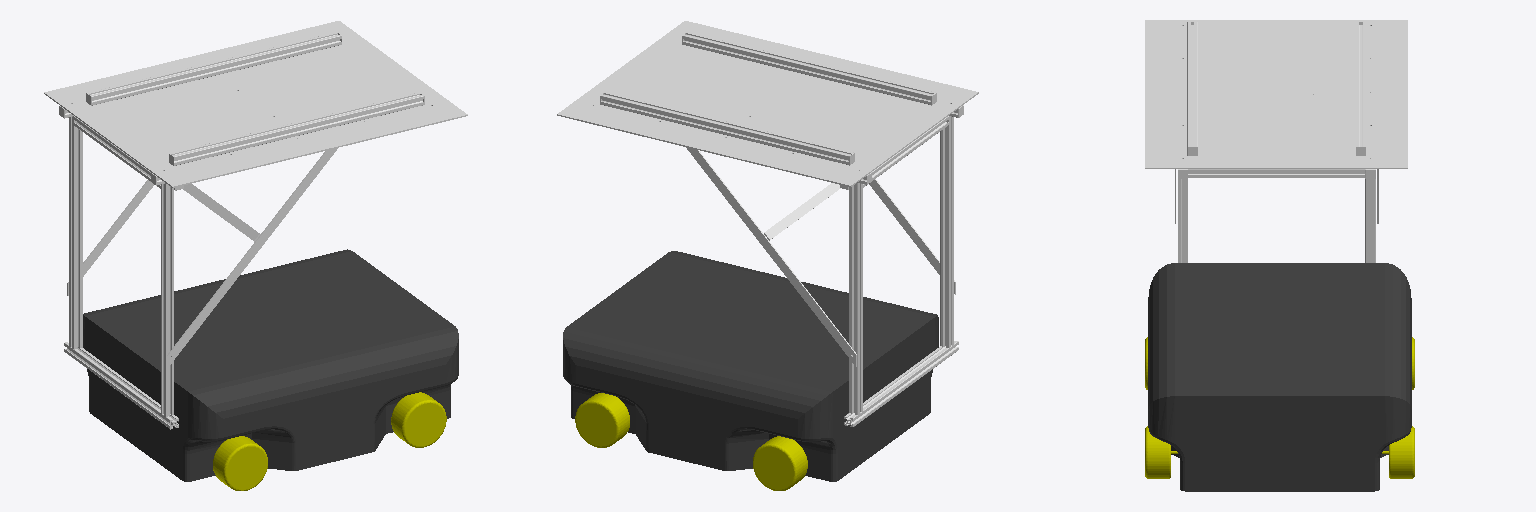
URDF robot description (heron_urdf):
<?xml version="1.0" encoding="utf-8"?>
<!-- This URDF was automatically created by SolidWorks to URDF Exporter! Originally created by [author] ([email redacted]) 
     Commit Version: 1.5.0-0-g9aa0fdb  Build Version: 1.5.7004.21443
     For more information, please see http://wiki.ros.org/sw_urdf_exporter -->
<robot
  name="heron_urdf">
  <link
    name="base_link">
    <inertial>
      <origin
        xyz="-0.15 0.025 0.0"
        rpy="0 0 1.57079" />
      <mass
        value="25" />
      <inertia
        ixx="4.73345232681242"
        ixy="-6.13913566072873E-06"
        ixz="-1.89872416704455E-05"
        iyy="6.95202353462315"
        iyz="-8.07624704791103E-06"
        izz="3.18752499734018" /> 
    </inertial>
    <visual>
      <origin
        xyz="-0.15 0.025 0.0"
        rpy="0 0 1.57079" />
      <geometry>
        <mesh
          filename="package://heron/meshes/base_link.STL" />
      </geometry>
      <material
        name="">
        <color
          rgba="0.3 0.3 0.3 1" />
      </material>
    </visual>
    <collision>
      <origin
        xyz="0 0 0"
        rpy="0 0 0" />
      <geometry>
        <mesh
          filename="package://heron/meshes/base_link.STL" />
      </geometry>
    </collision>
  </link>
  <link
    name="wheel_FL">
    <inertial>
      <origin
        xyz="0 0 0"
        rpy="0 0 0" />
      <mass
        value="0.389968906998643" />
      <inertia
        ixx="0.000322138046158454"
        ixy="-6.65852858947508E-37"
        ixz="-1.86618052242594E-37"
        iyy="0.00048299257130799"
        iyz="5.80382085092595E-22"
        izz="0.000322138046158454" />
    </inertial>
    <visual>
      <origin
        xyz="0 0 0"
        rpy="0 0 0" />
      <geometry>
        <mesh
          filename="package://heron/meshes/wheel_FL.STL" />
      </geometry>
      <material
        name="">
        <color
          rgba="0.8 0.8 0 1" />
      </material>
    </visual>
    <collision>
      <origin
        xyz="0 0 0"
        rpy="0 0 0" />
      <geometry>
        <mesh
          filename="package://heron/meshes/wheel_FL.STL" />
      </geometry>
    </collision>
  </link>
  <joint
    name="wheel_FL"
    type="continuous">
    <origin
      xyz="0.199955093786635 0.186235 -0.0610768464243844"
      rpy="1.5707963267949 1.5707963267949 -1.5707963267949" />
    <parent
      link="base_link" />
    <child
      link="wheel_FL" />
    <axis
      xyz="0 1 0" />
    <safety_controller
      k_velocity="0" />
    <limit effort="9.1201845" velocity="8.79645942"/>
  </joint>
  <link
    name="wheel_FR">
    <inertial>
      <origin
        xyz="0 0 0"
        rpy="0 0 0" />
      <mass
        value="0.389968906998643" />
      <inertia
        ixx="0.000322138046158454"
        ixy="-6.65852858947508E-37"
        ixz="-1.86618052242594E-37"
        iyy="0.00048299257130799"
        iyz="5.80382085092594E-22"
        izz="0.000322138046158454" />  
    </inertial>
    <visual>
      <origin
        xyz="0 0 0"
        rpy="0 0 0" />
      <geometry>
        <mesh
          filename="package://heron/meshes/wheel_FR.STL" />
      </geometry>
      <material
        name="">
        <color
          rgba="0.8 0.8 0 1" />
      </material>
    </visual>
    <collision>
      <origin
        xyz="0 0 0"
        rpy="0 0 0" />
      <geometry>
        <mesh
          filename="package://heron/meshes/wheel_FR.STL" />
      </geometry>
    </collision>
  </link>
  <joint
    name="wheel_FR"
    type="continuous">
    <origin
      xyz="0.199955093786635 -0.186235 -0.0610768464243844"
      rpy="1.5707963267949 1.5707963267949 1.5707963267949" />
    <parent
      link="base_link" />
    <child
      link="wheel_FR" />
    <axis
      xyz="0 1 0" />
    <safety_controller
      k_velocity="0" />
    <limit effort="9.1201845" velocity="8.79645942"/>
  </joint>
  <link
    name="wheel_BL">
    <inertial>
      <origin
        xyz="0 0 0"
        rpy="0 0 0" />
      <mass
        value="0.389968906998643" />
     <inertia
        ixx="0.000322138046158454"
        ixy="-6.65852858947508E-37"
        ixz="-1.86618052242594E-37"
        iyy="0.00048299257130799"
        iyz="5.80382085092595E-22"
        izz="0.000322138046158454" />   
    </inertial>
    <visual>
      <origin
        xyz="0 0 0"
        rpy="0 0 0" />
      <geometry>
        <mesh
          filename="package://heron/meshes/wheel_BL.STL" />
      </geometry>
      <material
        name="">
        <color
          rgba="0.8 0.8 0 1" />
      </material>
    </visual>
    <collision>
      <origin
        xyz="0 0 0"
        rpy="0 0 0" />
      <geometry>
        <mesh
          filename="package://heron/meshes/wheel_BL.STL" />
      </geometry>
    </collision>
  </link>
  <joint
    name="wheel_BL"
    type="continuous">
    <origin
      xyz="-0.200044906213365 0.186235 -0.0610768464243844"
      rpy="1.5707963267949 1.5707963267949 -1.5707963267949" />
    <parent
      link="base_link" />
    <child
      link="wheel_BL" />
    <axis
      xyz="0 1 0" />
    <safety_controller
      k_velocity="0" />
    <limit effort="9.1201845" velocity="8.79645942"/>
  </joint>
  <link
    name="wheel_BR">
    <inertial>
      <origin
        xyz="0 0 0"
        rpy="0 0 0" />
      <mass
        value="0.389968906998643" />
      <inertia
        ixx="0.000322138046158454"
        ixy="-6.65852858947508E-37"
        ixz="-1.86618052242594E-37"
        iyy="0.00048299257130799"
        iyz="5.80382085092595E-22"
        izz="0.000322138046158454" /> 
    </inertial>
    <visual>
      <origin
        xyz="0 0 0"
        rpy="0 0 0" />
      <geometry>
        <mesh
          filename="package://heron/meshes/wheel_BR.STL" />
      </geometry>
      <material
        name="">
        <color
          rgba="0.8 0.8 0 1" />
      </material>
    </visual>
    <collision>
      <origin
        xyz="0 0 0"
        rpy="0 0 0" />
      <geometry>
        <mesh
          filename="package://heron/meshes/wheel_BR.STL" />
      </geometry>
    </collision>
  </link>
  <joint
    name="wheel_BR"
    type="continuous">
    <origin
      xyz="-0.200044906213365 -0.186235 -0.0610768464243844"
      rpy="1.5707963267949 1.5707963267949 1.5707963267949" />
    <parent
      link="base_link" />
    <child
      link="wheel_BR" />
    <axis
      xyz="0 1 0" />
    <safety_controller
      k_velocity="0" />
    <limit effort="9.1201845" velocity="8.79645942"/>
  </joint>
  <link
    name="support">
    <inertial>
      <origin
        xyz="0 0 0"
        rpy="0 0 0" />
      <mass
        value="0.389968906998643" />
      <inertia
        ixx="0.20"
        ixy="0"
        ixz="0"
        iyy="0.10"
        iyz="-0.08"
        izz="0.14" />
    </inertial>
    <visual>
      <origin
        xyz="0 0 0"
        rpy="0 0 0" />
      <geometry>
        <mesh
          filename="package://heron/meshes/support.STL" />
      </geometry>
      <material
        name="">
        <color
          rgba="0.5 0.5 0.5 1" />
      </material>
    </visual>
    <collision>
      <origin
        xyz="0 0 0"
        rpy="0 0 0" />
      <geometry>
        <mesh
          filename="package://heron/meshes/support.STL" />
      </geometry>
    </collision>
  </link>
  <joint
    name="support"
    type="fixed">
    <origin
      xyz="-0.2969 0.186235 -0.096"
      rpy="1.5707963267949 0 -1.5707963267949" />
    <parent
      link="base_link" />
    <child
      link="support" />
    <safety_controller
      k_velocity="0" />
  </joint>
  <link
    name="plate">
    <inertial>
      <origin
        xyz="0 -0.0449492471492921 0"
        rpy="0 0 0" />
      <mass
        value="0.389968906998643" />
      <inertia
        ixx="1.47"
        ixy="-0.09"
        ixz="-0.31"
        iyy="1.46"
        iyz="0.39"
        izz="0.35" /> 
    </inertial>
    <visual>
      <origin
        xyz="0 0 0"
        rpy="0 0 0" />
      <geometry>
        <mesh
          filename="package://heron/meshes/plate.STL" />
      </geometry>
      <material
        name="">
        <color
          rgba="0.9 0.9 0.9 1" />
      </material>
    </visual>
    <collision>
      <origin
        xyz="0 0 0"
        rpy="0 0 0" />
      <geometry>
        <mesh
          filename="package://heron/meshes/plate.STL" />
      </geometry>
    </collision>
  </link>
  <joint
    name="plate"
    type="prismatic">
    <origin
      xyz="-0.6642 -0.26 0.035"
      rpy="1.5707963267949 0 1.5707963267949" />
    <parent
      link="base_link" />
    <child
      link="plate" />
    <axis
      xyz="0 1 0" />
    <safety_controller
      k_velocity="0" />
    <limit effort="147" lower="0.0" upper="0.386" velocity="0.039"/>
  </joint>
</robot>

--- Facts derived from the render (not from the file) ---
3 views of the same robot in one strip: view 1: azimuth 30°, elevation 25°; view 2: azimuth 150°, elevation 25°; view 3: azimuth 270°, elevation 25° (orthographic).
Model heron_urdf with 7 links and 6 joints (4 continuous, 1 prismatic, 1 fixed), rooted at base_link, posed every joint at zero.
Visible links, largest first — view 1: base_link, plate, wheel_FR, wheel_BR; view 2: base_link, plate, wheel_FL, wheel_BL; view 3: base_link, plate, wheel_FL, wheel_FR.
Link boxes in pixels (box(x1,y1,x2,y2)): base_link: box(83, 249, 458, 481); plate: box(44, 21, 467, 429); wheel_FR: box(391, 392, 446, 447); wheel_BR: box(213, 436, 267, 490); base_link: box(563, 251, 938, 481); plate: box(557, 21, 978, 426); wheel_FL: box(575, 393, 629, 447); wheel_BL: box(753, 436, 807, 490); base_link: box(1148, 263, 1411, 491); plate: box(1145, 20, 1407, 262); wheel_FL: box(1382, 426, 1414, 478); wheel_FR: box(1145, 426, 1177, 478).
Bounding box of the posed robot: 0.6678 × 0.5125 × 0.7121 m (x, y, z).
6 mesh visuals loaded from 7 distinct referenced files (6 binary STL); not drawn: 1 (reference not matched to a file when rendering).